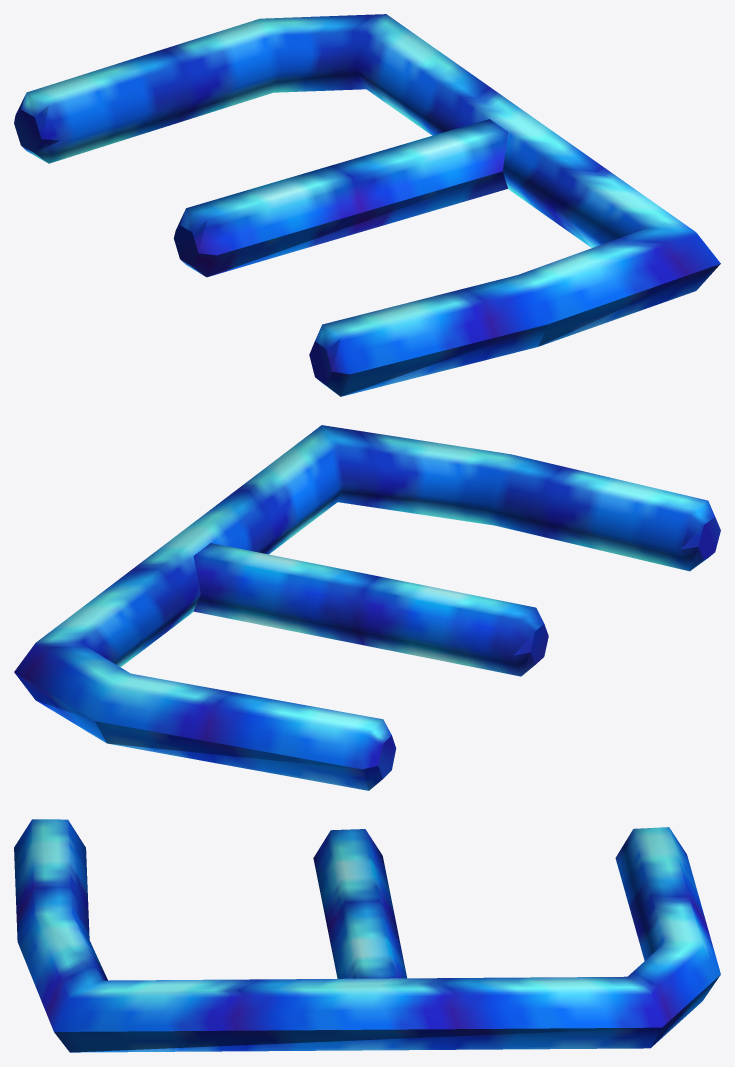
File: furni_0200452.FBX
3 renders of one model, top to bottom at view 1: azimuth 30°, elevation 25°; view 2: azimuth 150°, elevation 25°; view 3: azimuth 270°, elevation 25°, orthographic. The views are drawn at different scales.
Visible parts, largest first — view 1: furni_0200452; view 2: furni_0200452; view 3: furni_0200452.
Boxes of the visible parts, x1=… form: furni_0200452: x1=14, y1=14, x2=720, y2=396; furni_0200452: x1=14, y1=425, x2=720, y2=790; furni_0200452: x1=14, y1=819, x2=720, y2=1052.
Size of the model in its own units: 36.69 by 5.11 by 57.88.
Materials: 1 (1 with a texture image).
